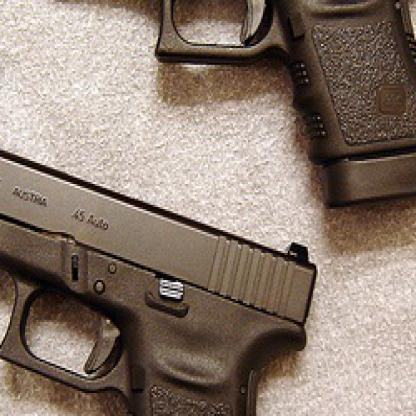gun: (0, 121, 318, 414), (27, 0, 414, 207)
